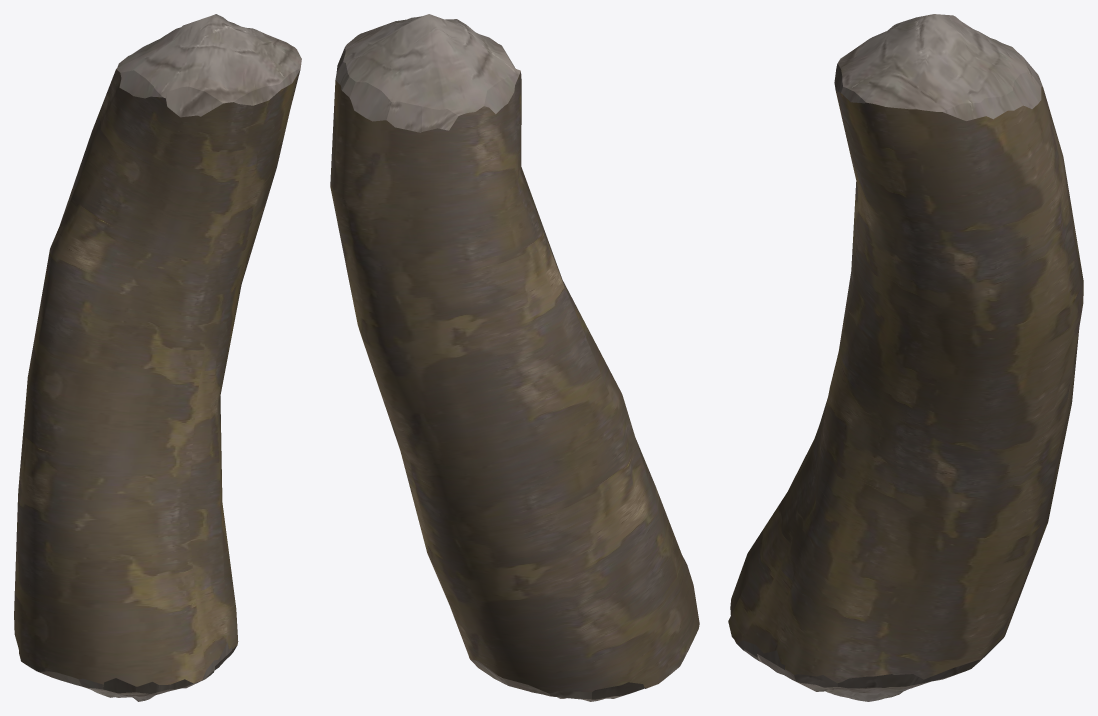
The picture shows the model from 3 angles, left to right: view 1: azimuth 30°, elevation 25°; view 2: azimuth 150°, elevation 25°; view 3: azimuth 270°, elevation 25°; orthographic projection. The views are drawn at different scales.
Parts seen in each view (by area): view 1: SM_Yew_03_quarter_04_LOD0; view 2: SM_Yew_03_quarter_04_LOD0; view 3: SM_Yew_03_quarter_04_LOD0.
Boxes of the visible parts, x1,y1,x2,y2 form: SM_Yew_03_quarter_04_LOD0: (14,14,301,701); SM_Yew_03_quarter_04_LOD0: (330,14,699,701); SM_Yew_03_quarter_04_LOD0: (728,14,1083,701).
Bounding box in the file's own units: 0.9933 × 2.14 × 0.9252.
1 material, 1 textured.
